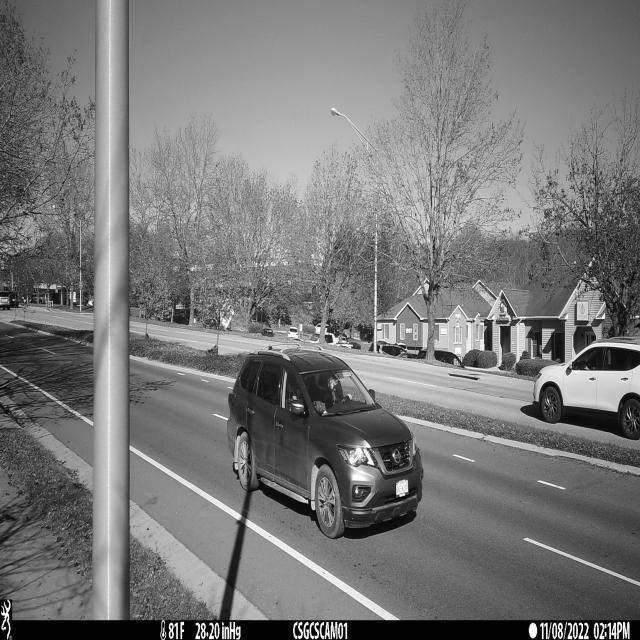SUV: (227, 346, 423, 540)
